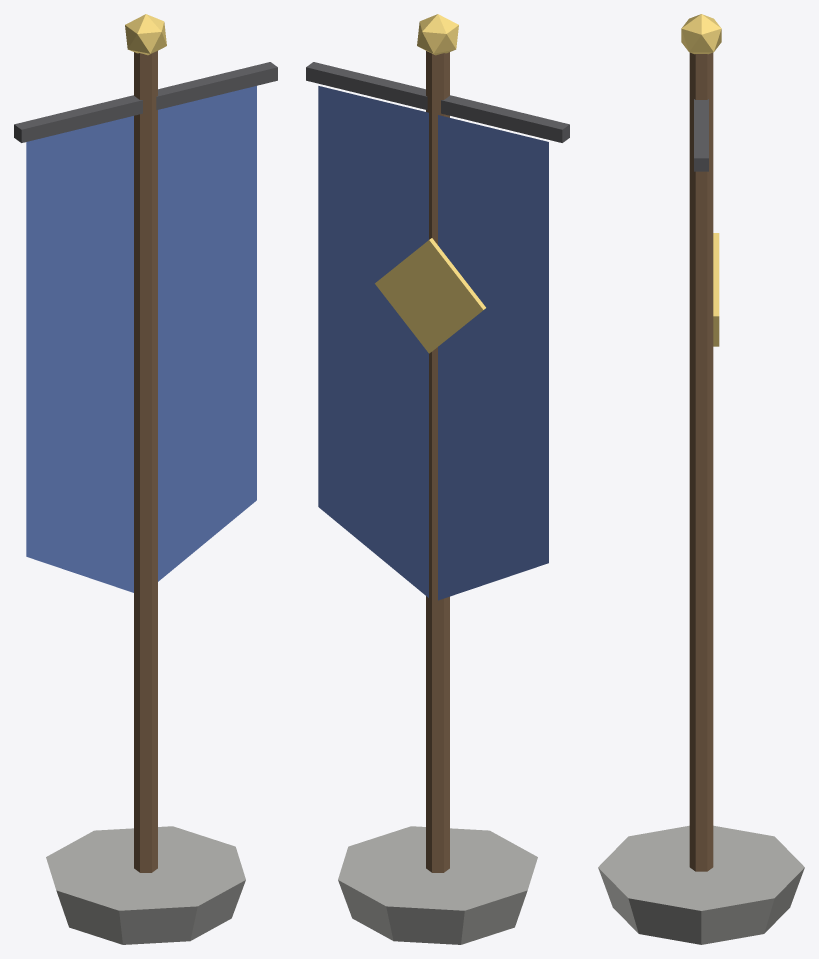
The model's file is Banner_Stand.glb.
3 renders of one model, left to right at view 1: azimuth 30°, elevation 25°; view 2: azimuth 150°, elevation 25°; view 3: azimuth 270°, elevation 25°, orthographic.
Parts seen in each view (by area): view 1: Banner_Stand; view 2: Banner_Stand; view 3: Banner_Stand.
Part boxes in pixels (x1,y1,x2,y2): Banner_Stand: (14, 14, 277, 944); Banner_Stand: (306, 14, 569, 944); Banner_Stand: (598, 14, 804, 944).
Bounding box in the file's own units: 1 × 3.34 × 0.7.
